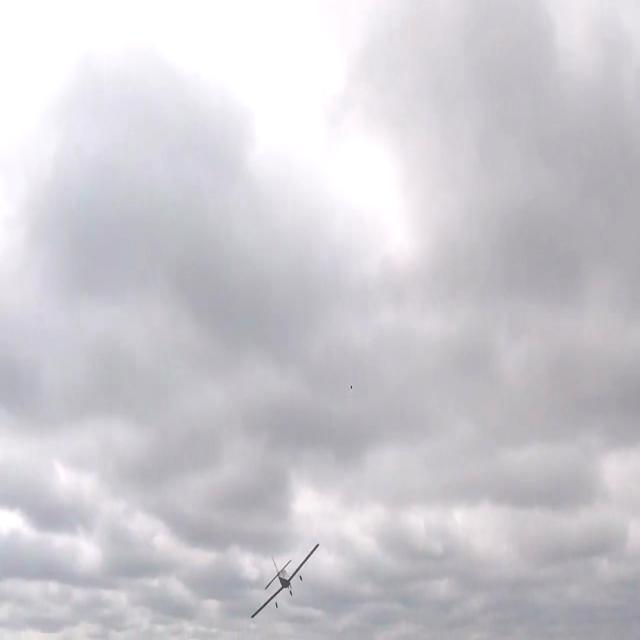iha: (267, 565, 304, 597)
